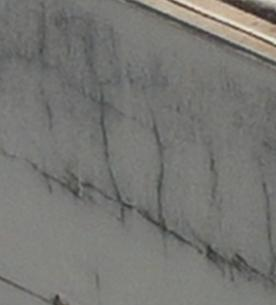fissura: (0, 109, 276, 305)
